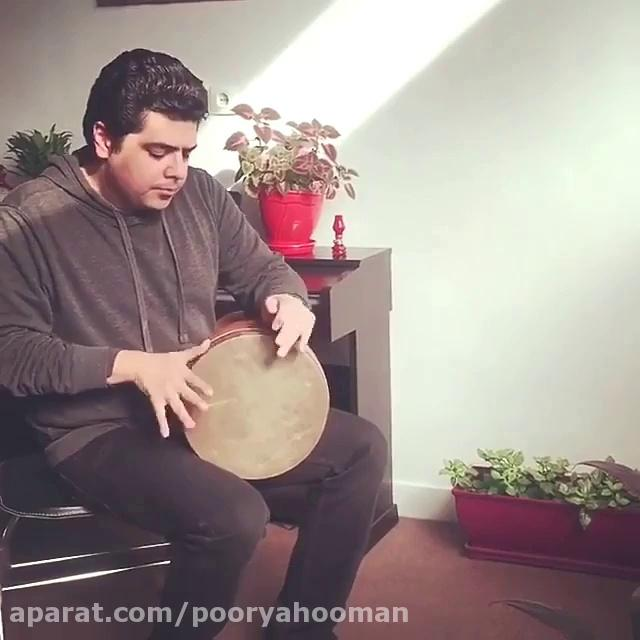Tombak: (174, 322, 332, 476)
